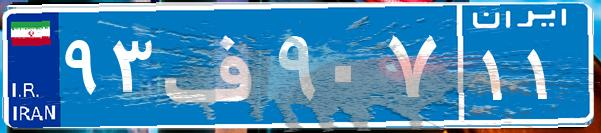0: (330, 28, 385, 110)
1: (475, 38, 525, 113), (525, 38, 570, 115)
3: (110, 28, 158, 105)
7: (385, 28, 445, 110)
9: (273, 28, 330, 110), (57, 26, 110, 107)
ف: (158, 15, 273, 115)
